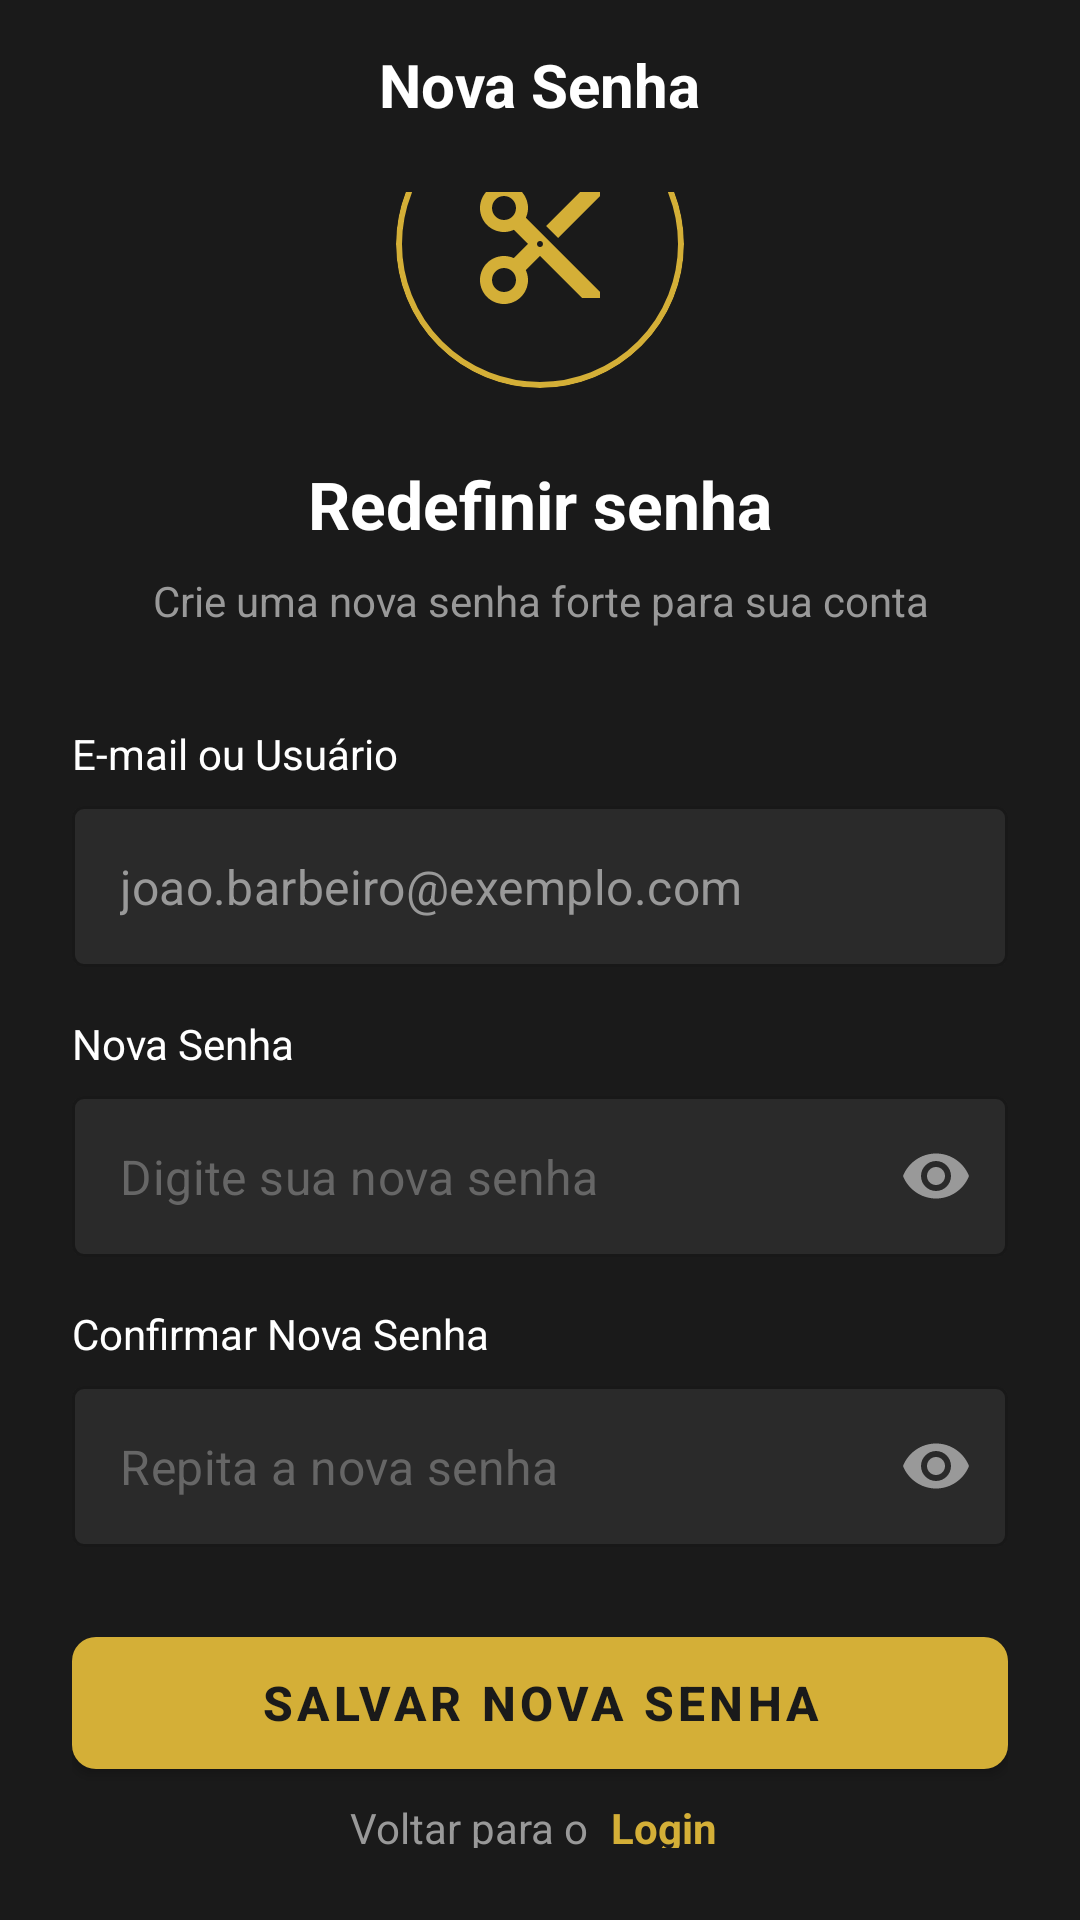

Named icons in this screenshot (1080×1920) and their bounding boxes, (x1, y1, x2, y2):
scissors: (480, 192, 600, 304)
